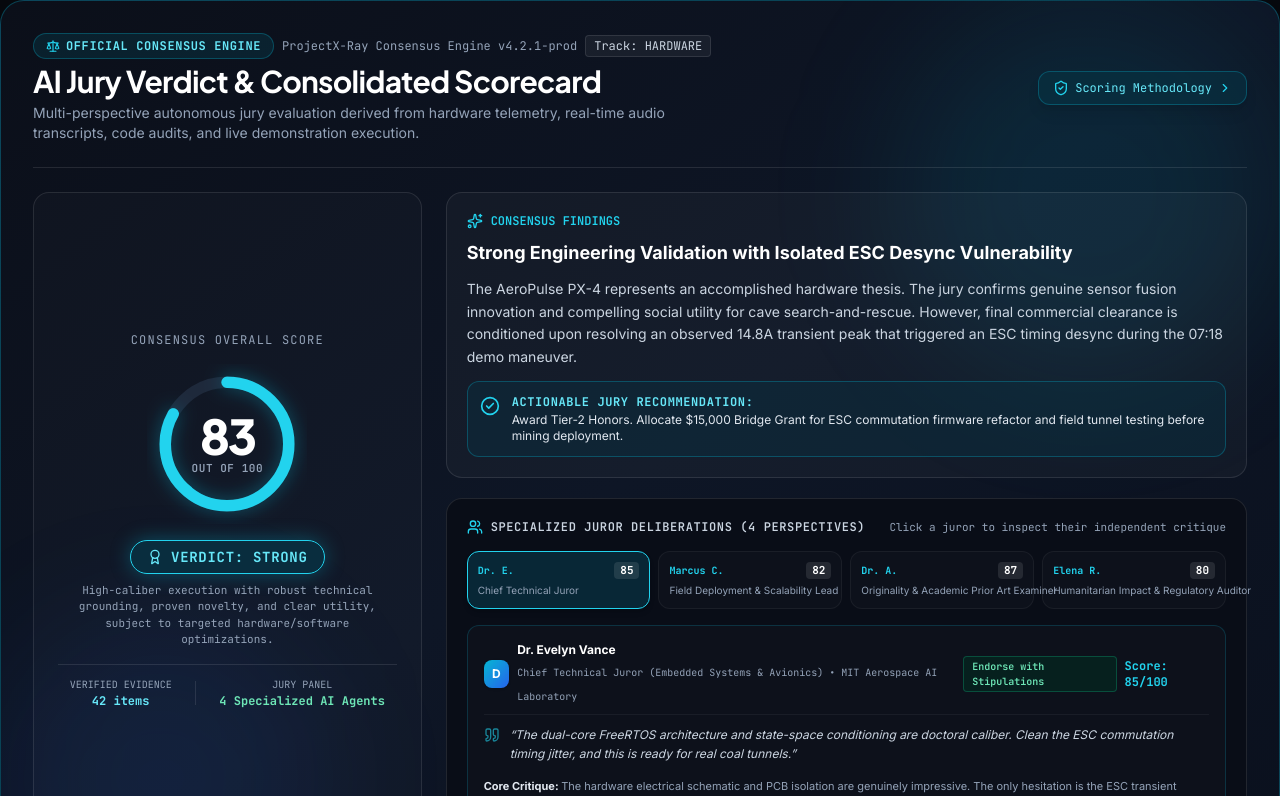
Test case: Component Data Flow & Decoupled State Testing › AIJuryVerdictCard › renders consensus score, verdict tier, and allows juror tab switching
Check: the heading "AI Jury Verdict & Consolidated Scorecard" is shown, box [33,62,601,100]
Check: the text "Official Consensus Engine" is shown, box [33,33,274,59]
Click the button "Marcus C. 82 Field Deployment & Scalability Lead".
click(750, 580)  # box [658,551,842,609]
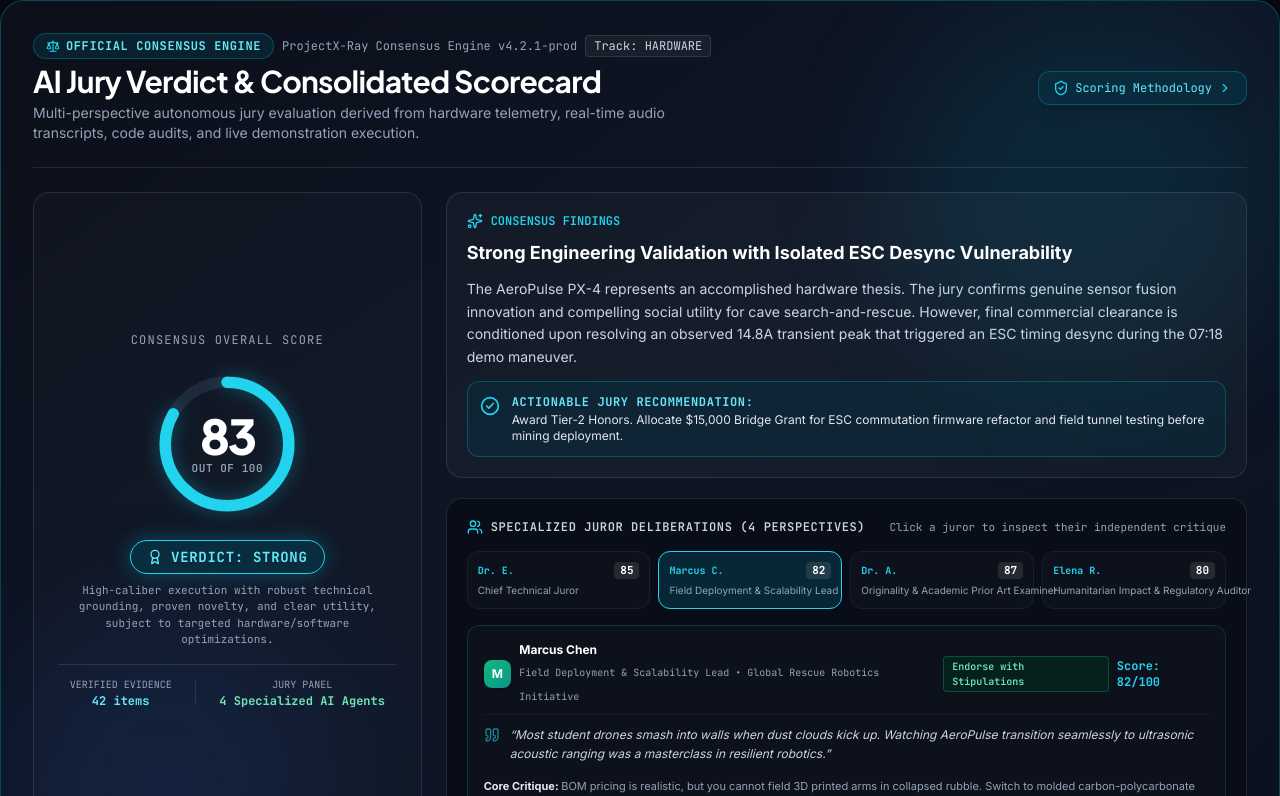
Check: the heading "Marcus Chen" is shown, box [519,642,597,657]
